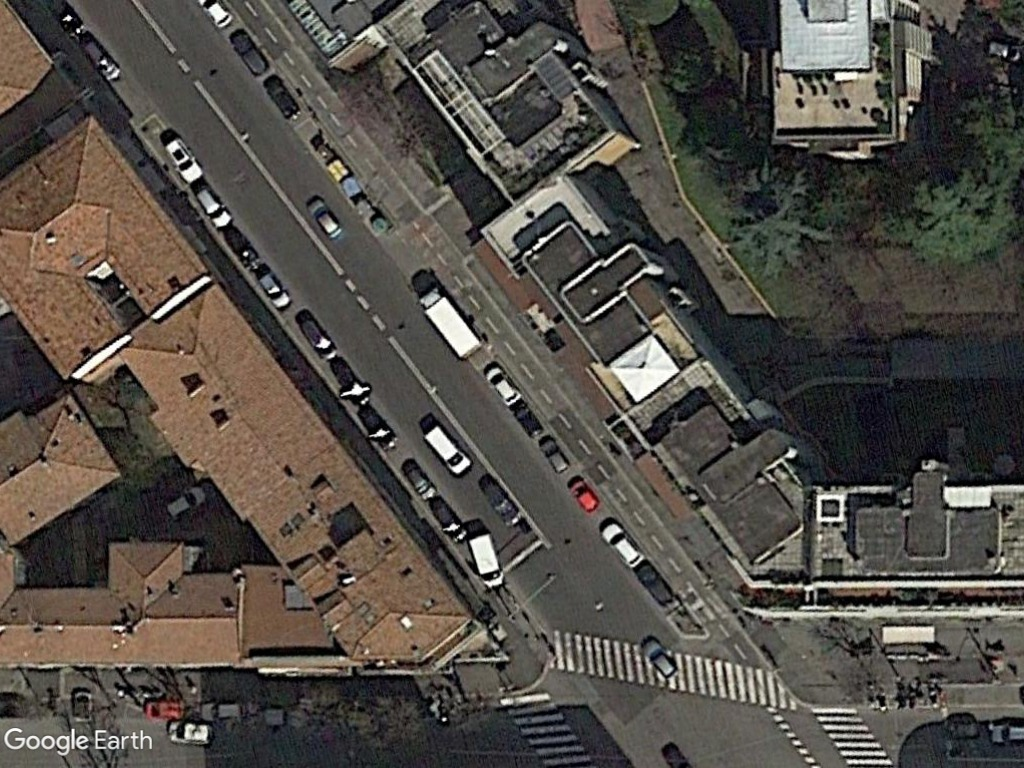car: (476, 472, 528, 531), (191, 178, 238, 235), (597, 520, 647, 572), (80, 33, 126, 87), (293, 312, 341, 363), (225, 27, 271, 78), (159, 135, 205, 186), (634, 558, 678, 611), (636, 636, 682, 685), (303, 192, 346, 242), (252, 262, 294, 312), (482, 361, 523, 409), (162, 480, 206, 523), (564, 477, 605, 517), (535, 433, 572, 477), (401, 460, 438, 502), (164, 718, 216, 747), (138, 698, 192, 724), (200, 700, 250, 723)
truck: (416, 281, 484, 361)
van: (422, 417, 475, 480), (464, 530, 509, 591)
